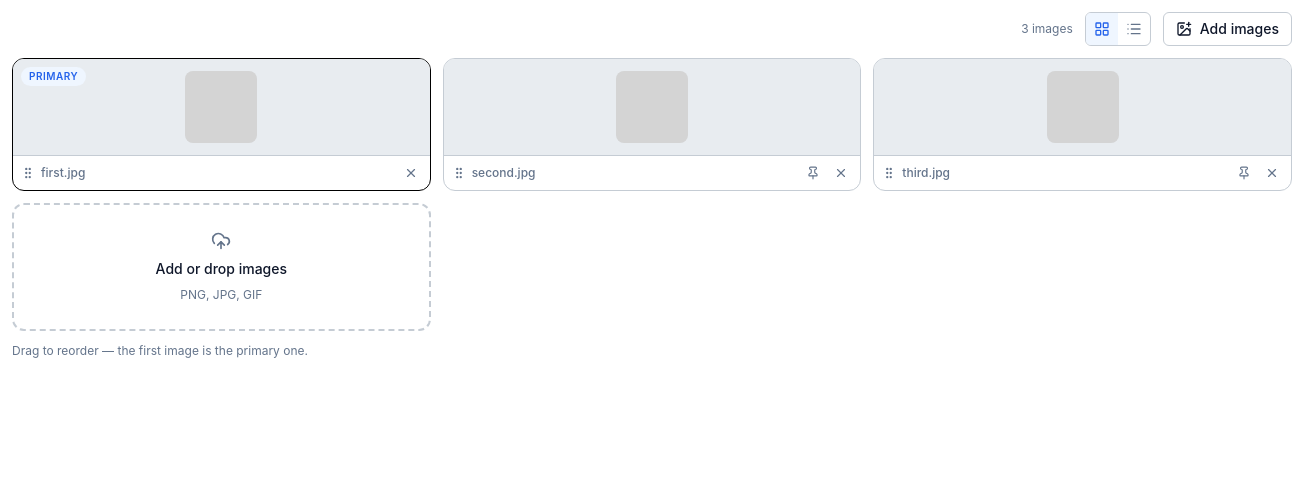
Test case: ImageGalleryManager › details panel › opens on card selection, shows the filename, and closes
Expected: the text "Image details" is not shown
Click the button named "image details: second.jpg" at (652, 107), box [444,59,860,155]
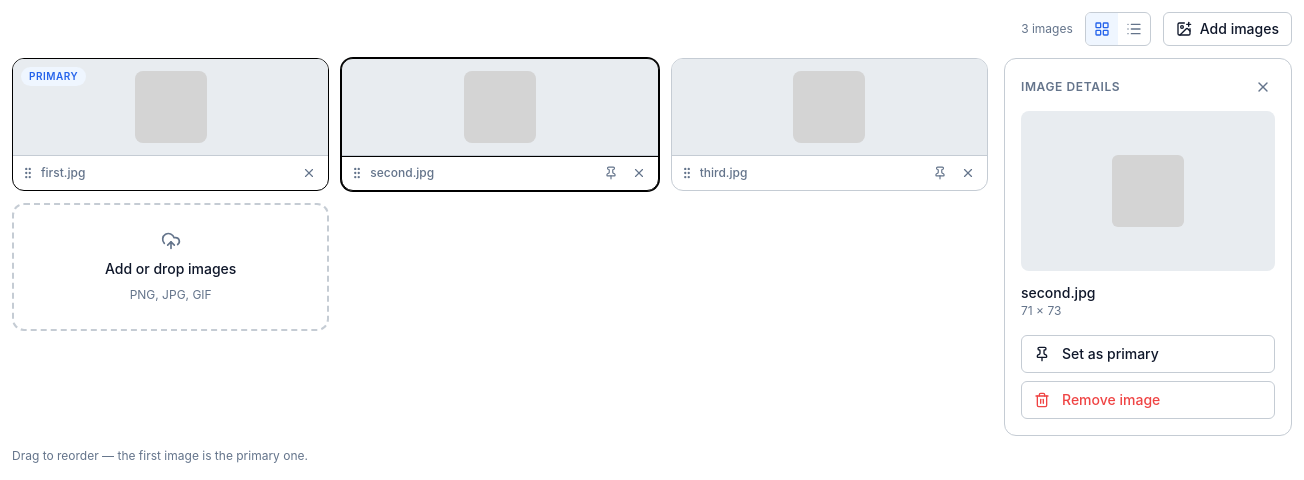
Result: the text "second.jpg" below "Image details" is shown at [1021,284,1096,301]
Click the button named "close image details" at (1263, 87), box [1251,75,1275,99]
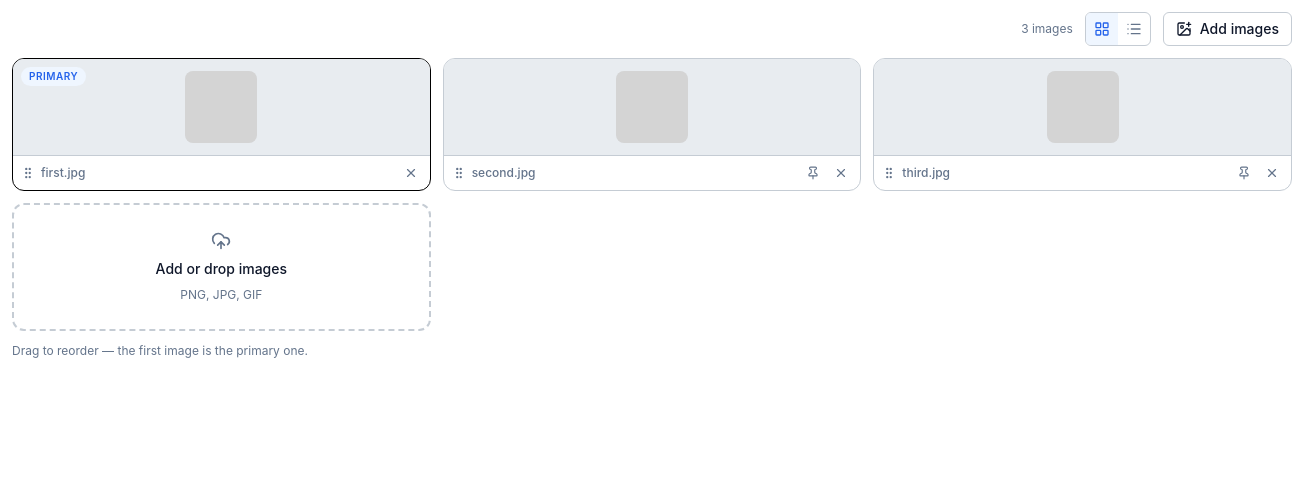
Result: the text "Image details" is gone
